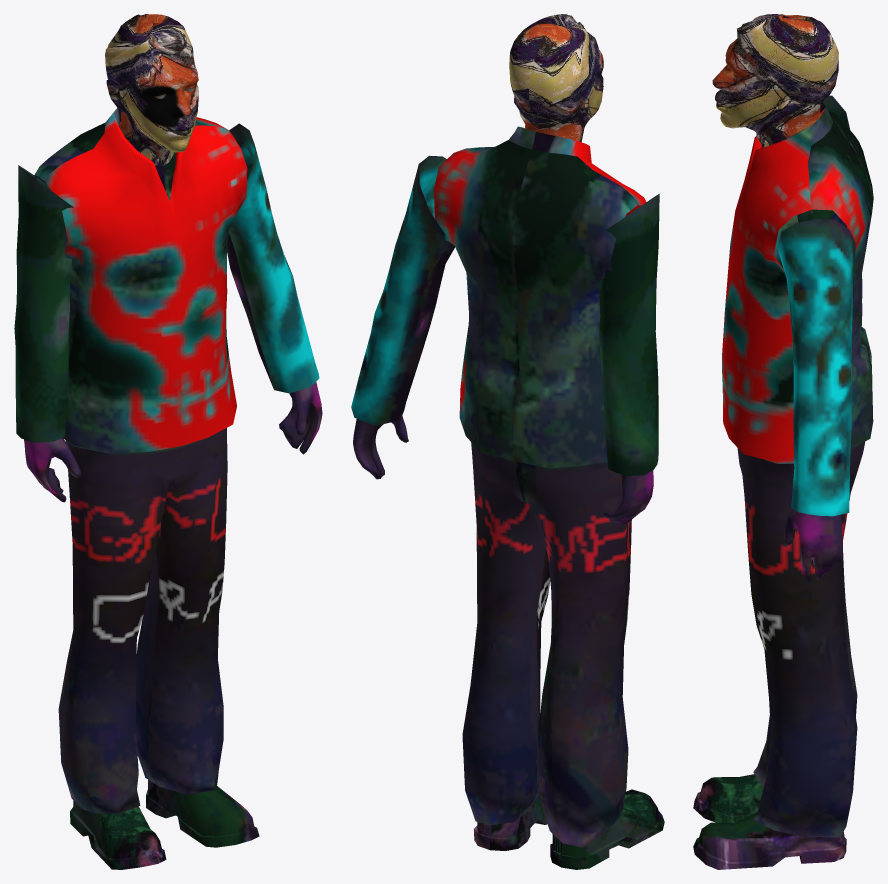
The model's file is handsatwaist.glb.
3 views of the same model, side by side, from view 1: azimuth 30°, elevation 25°; view 2: azimuth 150°, elevation 25°; view 3: azimuth 270°, elevation 25° (orthographic).
Visible parts, largest first — view 1: Object_15, Object_11; view 2: Object_15, Object_11; view 3: Object_15, Object_11.
Part boxes in pixels (bbox=[...]): Object_15: bbox=[14, 108, 322, 869]; Object_11: bbox=[105, 14, 198, 166]; Object_15: bbox=[351, 126, 664, 869]; Object_11: bbox=[509, 14, 603, 142]; Object_15: bbox=[693, 95, 873, 869]; Object_11: bbox=[712, 14, 838, 147].
Bounding box in the file's own units: 27.83 × 72.2 × 14.42.
5 materials, 5 textured.
